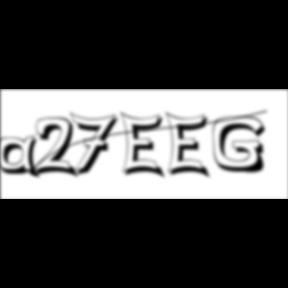2: (32, 117, 82, 181)
7: (70, 111, 124, 179)
E: (120, 110, 170, 182), (166, 110, 214, 182)
G: (214, 116, 272, 176)
a: (0, 135, 46, 182)
